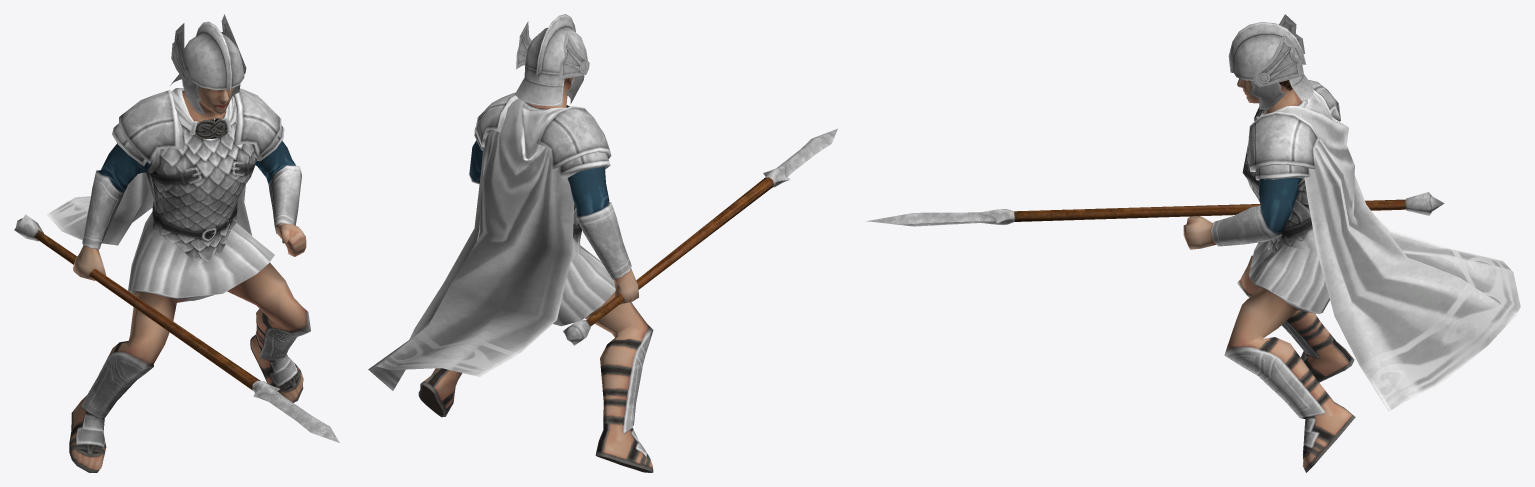
Rendered from rider-championcavalry.glb.
The picture shows the model from 3 angles, left to right: view 1: azimuth 30°, elevation 25°; view 2: azimuth 150°, elevation 25°; view 3: azimuth 270°, elevation 25°; orthographic projection. The views are drawn at different scales.
Bounding box in the file's own units: 1.14 × 2.03 × 2.88.
Materials: 3 (3 with a texture image).
